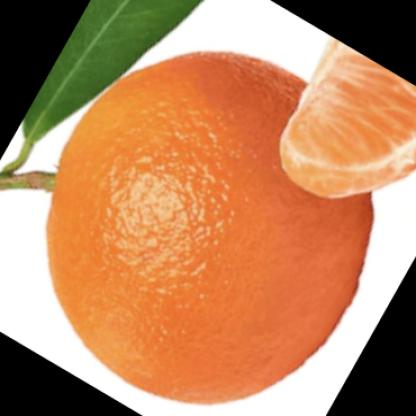fresh: (46, 50, 374, 406)
